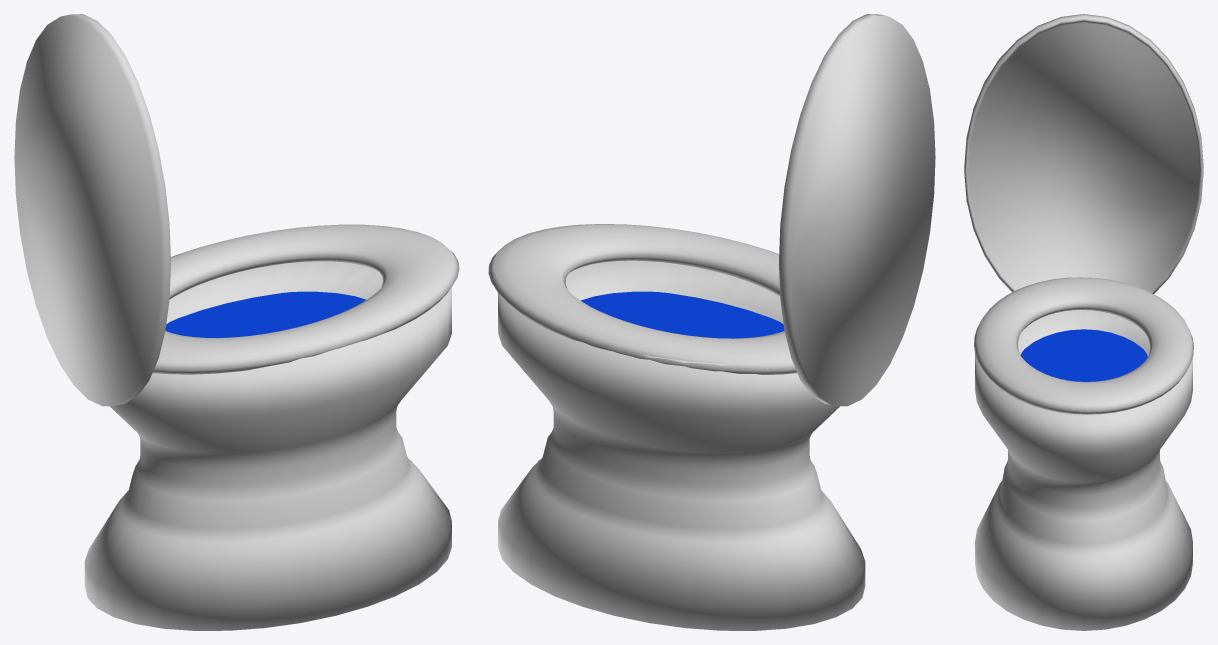
File: Toilet With Components.fbx
3 renders of one model, left to right at view 1: azimuth 30°, elevation 25°; view 2: azimuth 150°, elevation 25°; view 3: azimuth 270°, elevation 25°, orthographic. The views are drawn at different scales.
Parts seen in each view (by area): view 1: Bowl, Seat, water; view 2: Bowl, Seat, water; view 3: Bowl, Seat, water.
Boxes of the visible parts, box(x1,y1,x2,y2) form: Bowl: box(14, 14, 451, 630); Seat: box(152, 224, 459, 374); water: box(165, 291, 366, 337); Bowl: box(498, 14, 935, 630); Seat: box(488, 224, 797, 374); water: box(581, 291, 784, 338); Bowl: box(964, 14, 1203, 630); Seat: box(974, 277, 1193, 414); water: box(1020, 329, 1147, 381).
Bounding box in the file's own units: 282 × 440 × 200.
